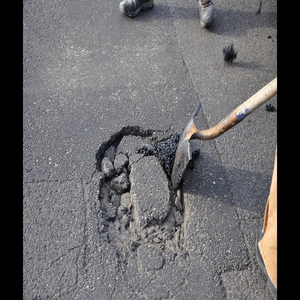pothole: (98, 126, 194, 257)
